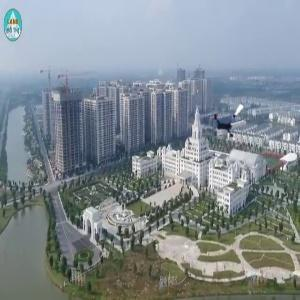drone: (204, 98, 250, 144)
